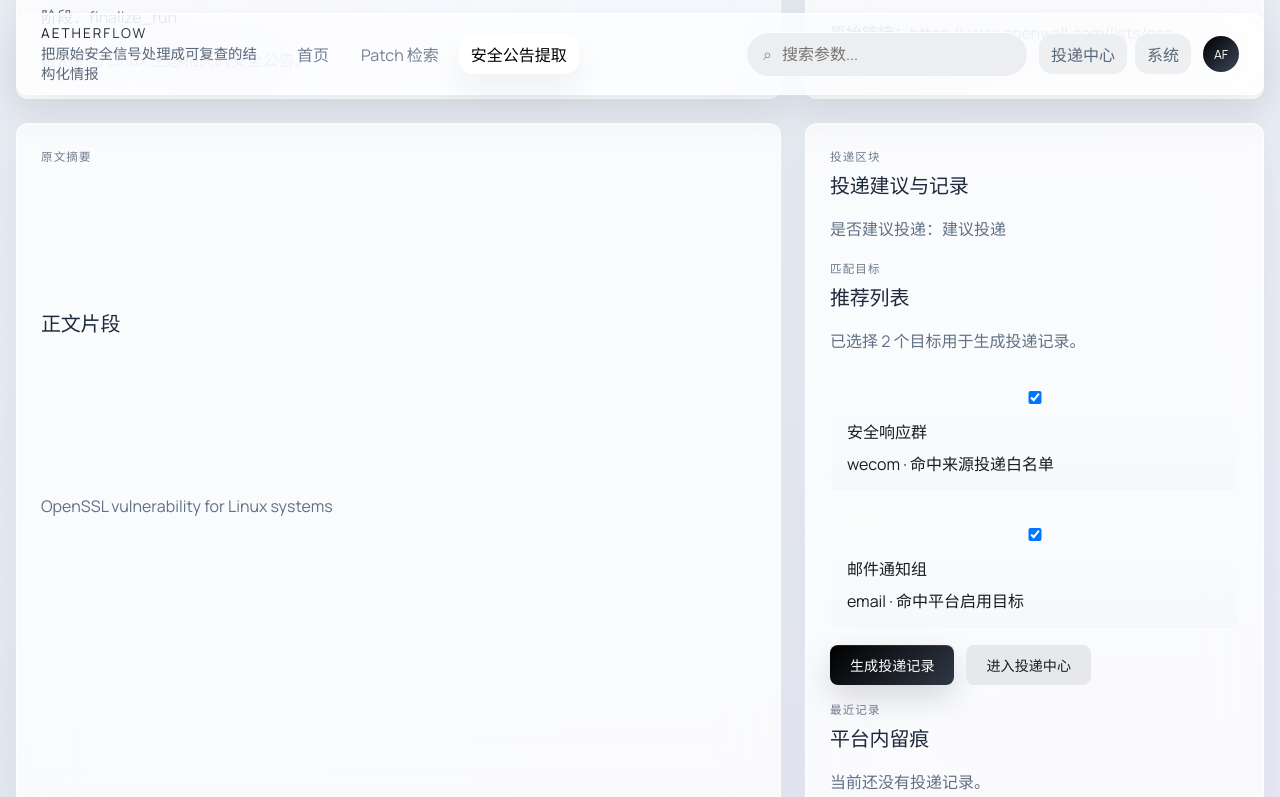
Test case: announcement detail page renders package summary from api payload
(page scrolled)
Expected: the text "检测到与 Linux 生态相关的安全公告。" is shown, [41,49,311,71]
Expected: the text "安全响应群" is shown, [847,419,927,443]
Click the checkbox named "选择目标 安全响应群" at (1035, 397), box [851,391,1219,404]
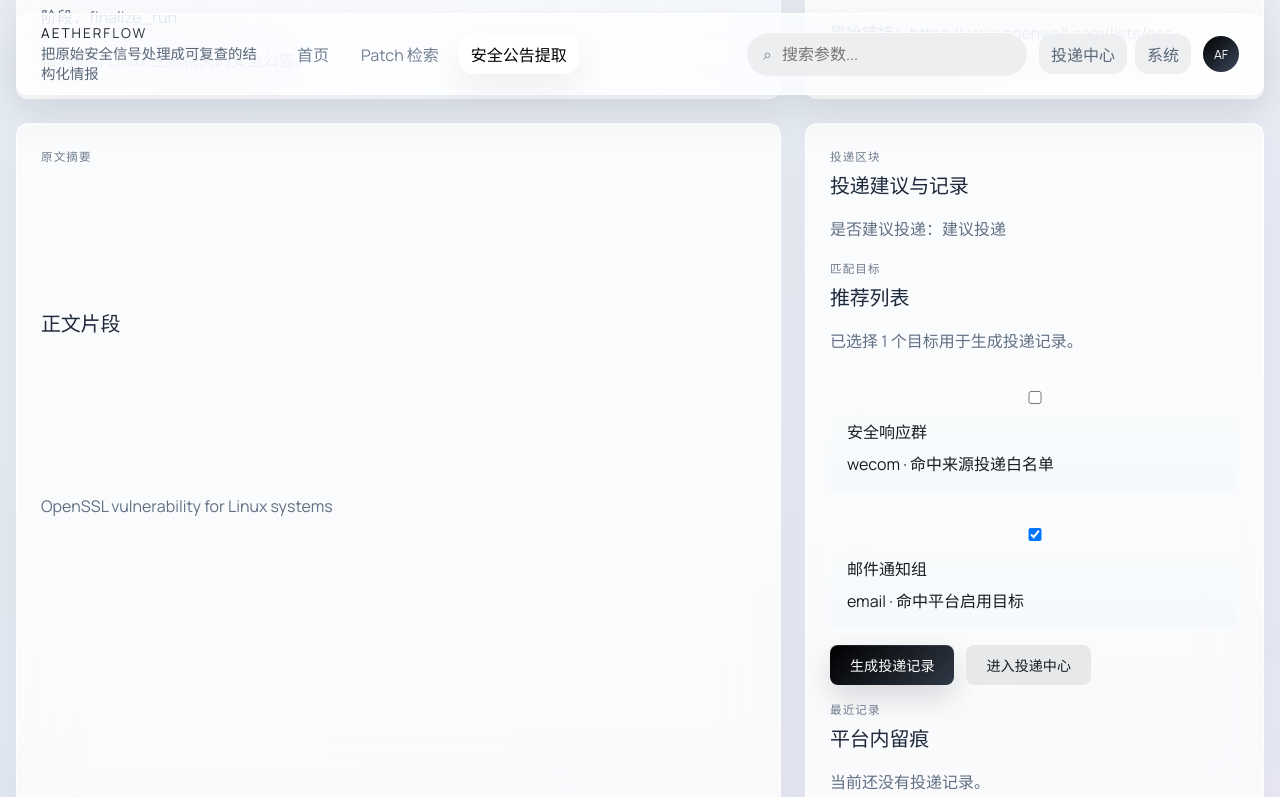
Click the button "生成投递记录" at (892, 665), box [830,645,954,685]
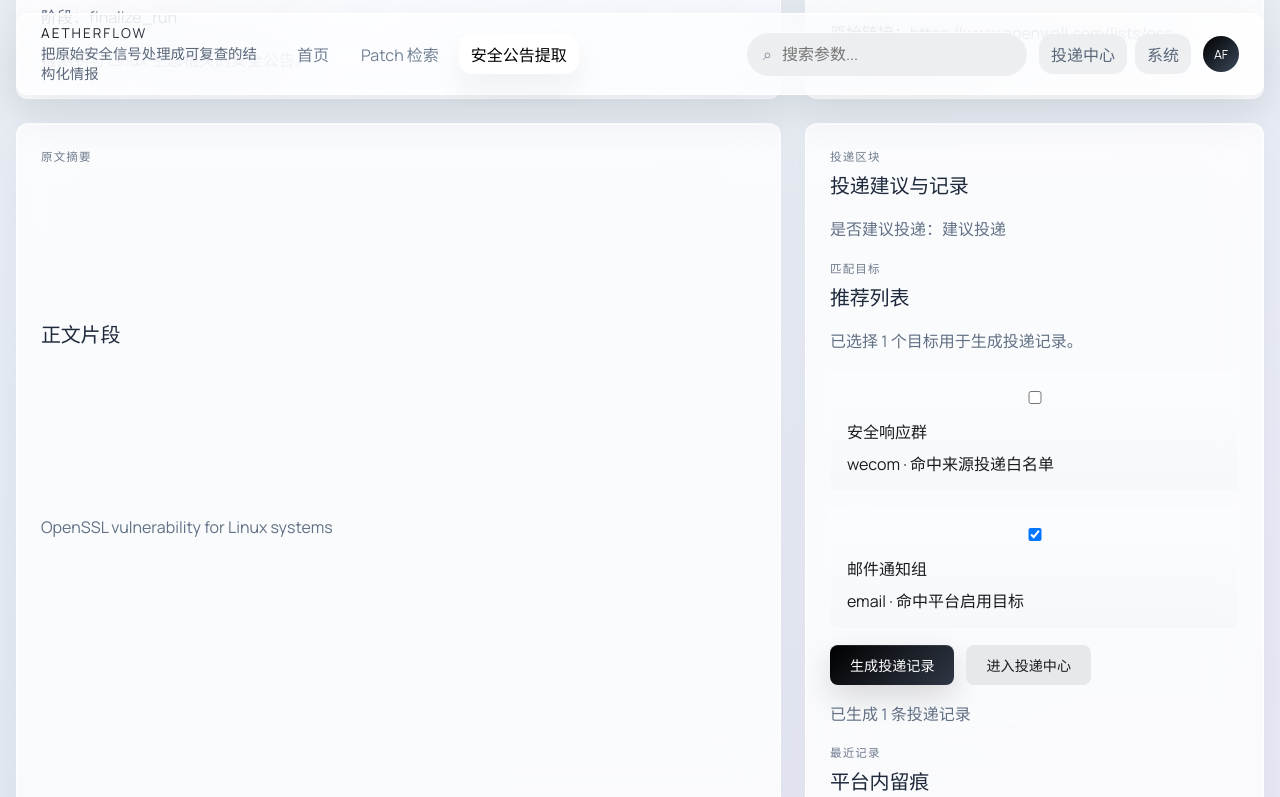
Expected: the text "已生成 1 条投递记录" is shown, [830,703,971,725]
